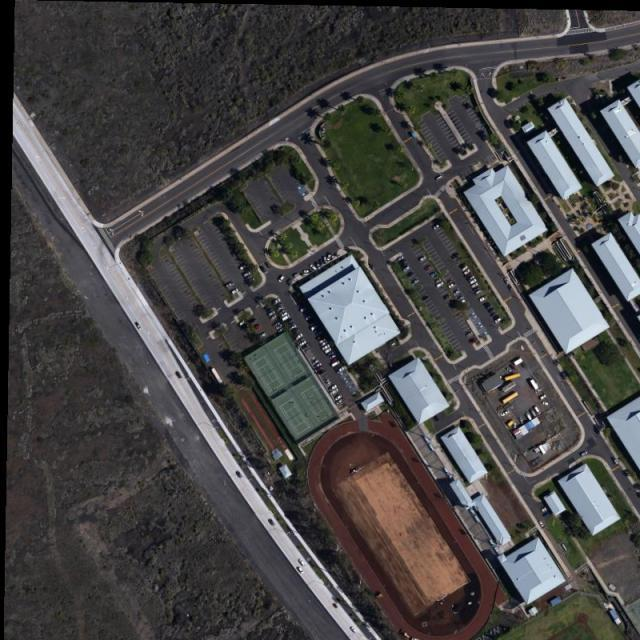vehicle: (297, 565, 305, 574), (267, 518, 275, 527), (234, 470, 242, 479), (134, 322, 142, 331), (479, 294, 488, 302), (437, 281, 446, 289), (294, 334, 304, 341), (334, 394, 343, 401), (541, 506, 550, 513), (419, 255, 428, 262), (305, 314, 314, 321), (299, 306, 308, 313), (530, 408, 537, 417), (580, 450, 589, 457), (270, 314, 278, 321), (282, 314, 290, 321), (337, 366, 344, 374), (299, 558, 306, 566), (175, 371, 182, 379), (452, 254, 460, 261), (463, 268, 471, 275), (461, 265, 468, 273), (412, 278, 419, 286), (534, 406, 541, 414), (329, 385, 338, 391), (612, 456, 618, 465), (274, 298, 281, 305), (243, 270, 250, 277), (246, 274, 253, 281), (444, 294, 451, 301), (423, 295, 430, 302), (539, 394, 546, 401), (398, 255, 405, 262), (539, 521, 546, 528), (259, 332, 267, 338), (314, 362, 322, 368), (330, 389, 338, 395), (278, 275, 284, 283), (226, 282, 234, 288), (322, 345, 330, 351), (318, 342, 326, 348), (432, 223, 440, 229), (502, 410, 510, 416), (470, 282, 479, 287), (310, 264, 317, 270), (238, 320, 245, 326), (279, 327, 285, 334), (276, 324, 282, 331), (282, 311, 288, 318), (313, 359, 319, 366), (336, 399, 342, 406), (232, 288, 239, 294), (351, 627, 357, 634), (240, 263, 246, 270), (431, 272, 438, 278), (495, 317, 502, 323), (475, 288, 482, 294), (404, 266, 410, 273), (467, 331, 474, 337), (526, 413, 533, 419), (278, 309, 286, 314), (298, 341, 306, 346), (470, 338, 478, 343), (519, 417, 524, 425), (325, 348, 331, 354), (273, 322, 279, 328), (277, 306, 283, 312), (329, 354, 335, 360), (506, 367, 512, 373), (470, 278, 476, 284), (319, 258, 324, 265), (332, 362, 339, 367), (332, 602, 337, 609), (426, 266, 433, 271), (542, 401, 549, 406), (450, 282, 455, 289), (290, 326, 298, 330), (315, 261, 320, 267), (265, 261, 270, 267), (253, 326, 259, 331), (318, 340, 323, 346), (454, 289, 460, 294), (435, 279, 442, 283), (269, 311, 274, 316), (509, 364, 514, 369), (324, 256, 328, 262), (328, 254, 331, 260), (303, 270, 309, 273)
